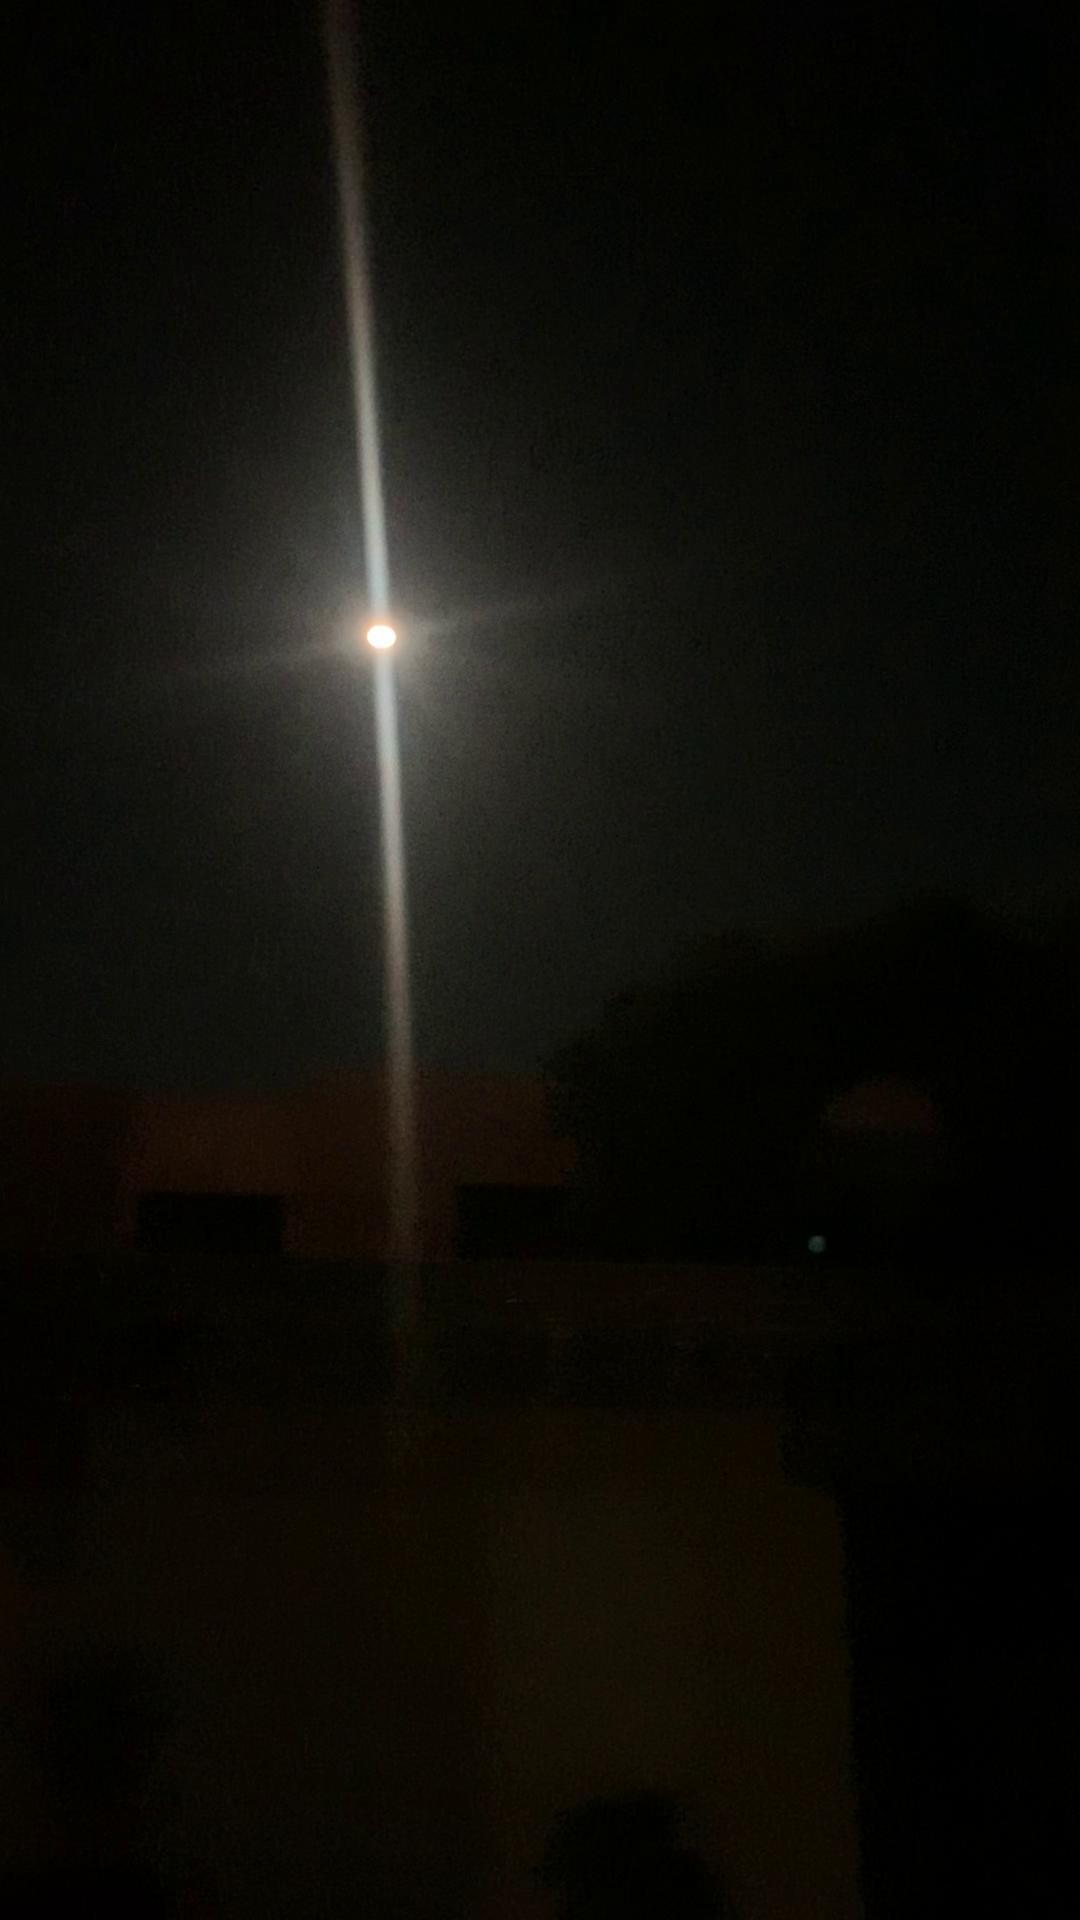moon: (344, 595, 419, 674)
